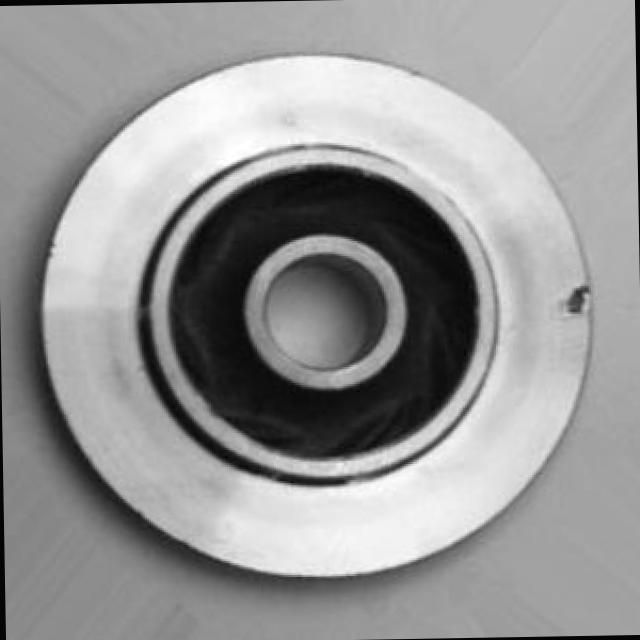Defect: (566, 286, 590, 316)
